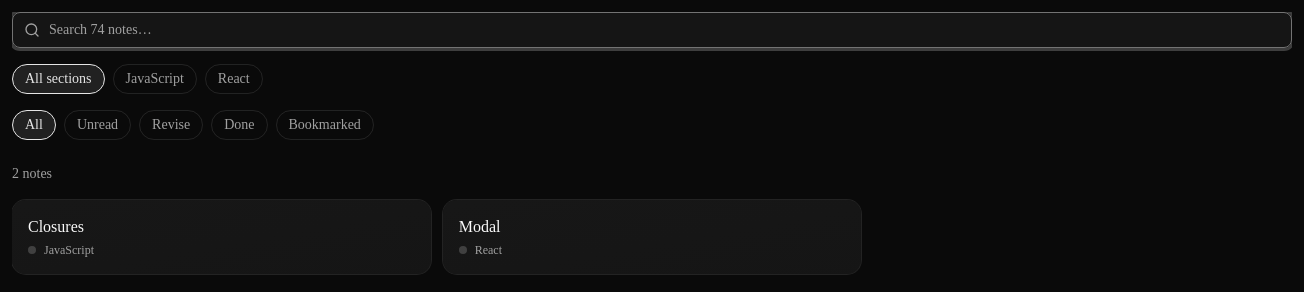
Test: NotesBrowser › filters by section pill
Click the button "React" at (234, 79), box [205, 64, 263, 94]
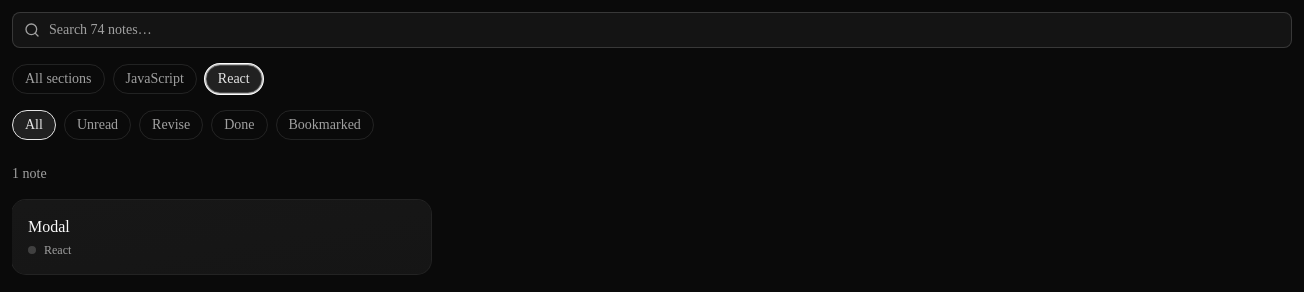
Expected: the text "Modal" is shown, [28, 216, 70, 238]
Result: the link "Closures" is gone
